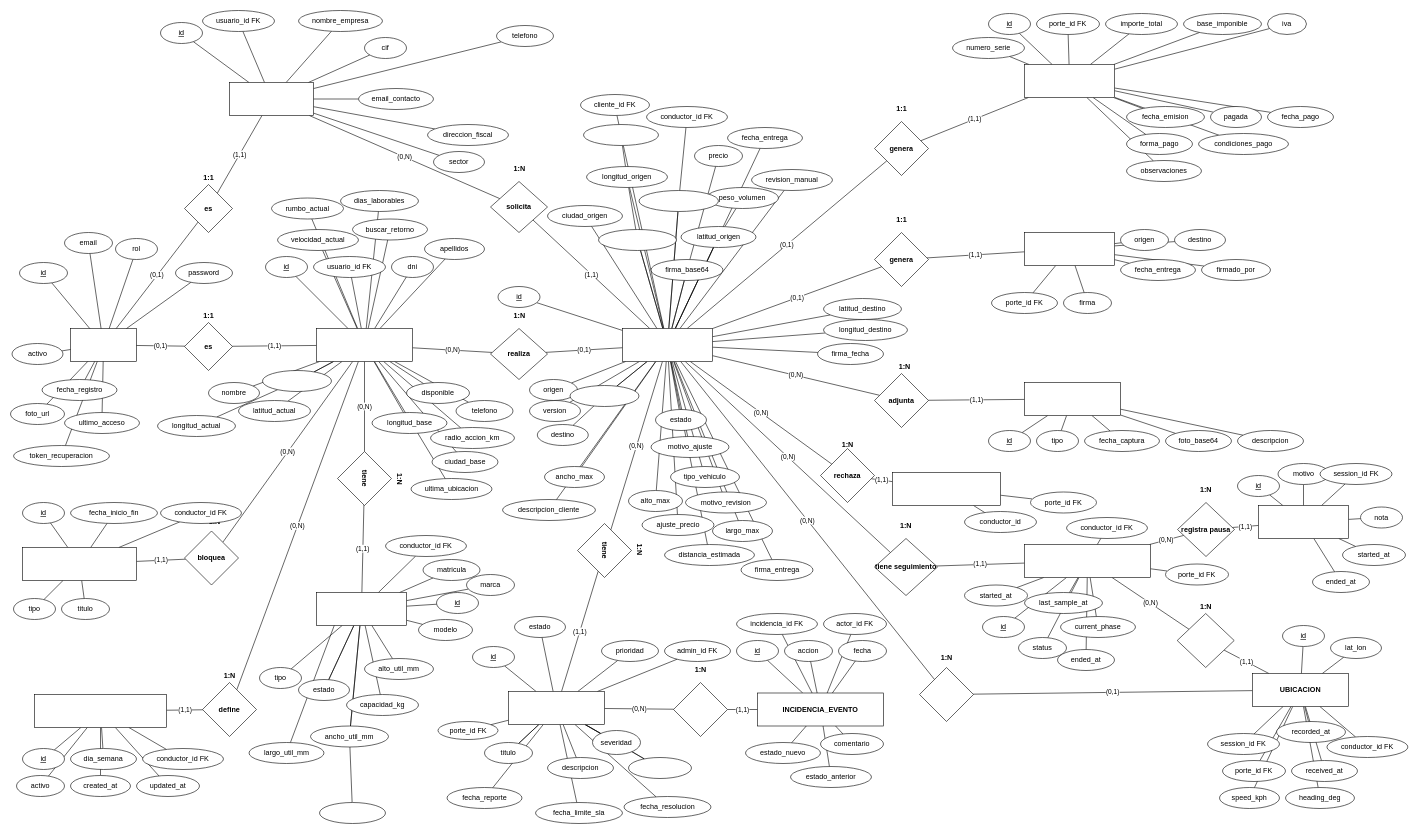
This 1418x834 diagram has some shape labels left out. The shapes that lost their labels are listed below. From the top down, each one's centre as x and y in pixels, then its label:
the point at 271,99: CLIENTE
the point at 1069,81: FACTURA
the point at 620,135: fecha_creacion
the point at 678,201: fecha_recogida
the point at 637,239: ciudad_destino
the point at 1069,249: ALBARAN
the point at 103,345: USUARIO
the point at 364,345: CONDUCTOR
the point at 667,345: PORTE
the point at 297,381: latitud_base
the point at 604,395: distancia_km
the point at 1072,399: FOTO_CARGA
the point at 946,489: PORTE_RECHAZO
the point at 1303,521: TRACKING_PAUSE
the point at 79,563: AGENDA_BLOQUEO
the point at 1087,561: TRACKING_SESSION
the point at 361,609: VEHICULO
the point at 1205,640: registra
the point at 100,711: BLOQUEO_RECURRENTE
the point at 556,707: INCIDENCIA
the point at 700,709: historial
the point at 946,694: reporta
the point at 660,767: resolucion
the point at 352,813: volumen_m3
